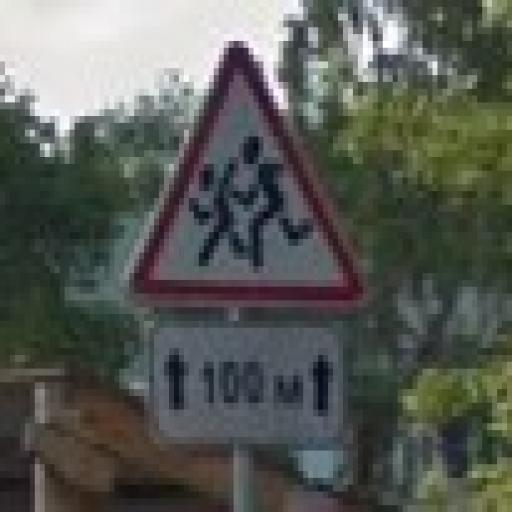traffic_sign: (125, 42, 369, 308)
